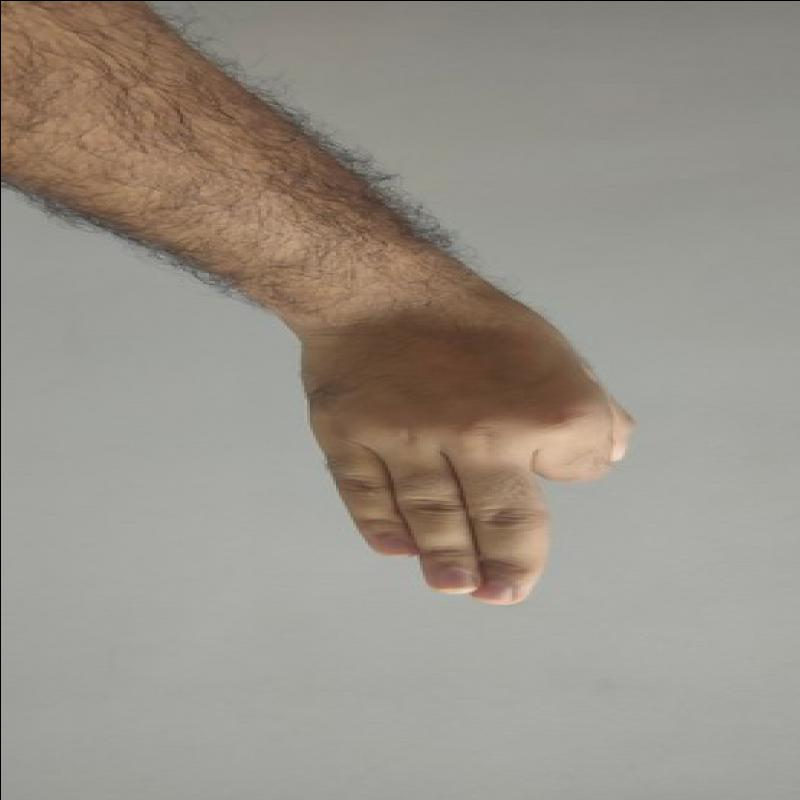Mudraakhyam: (278, 304, 642, 637)
